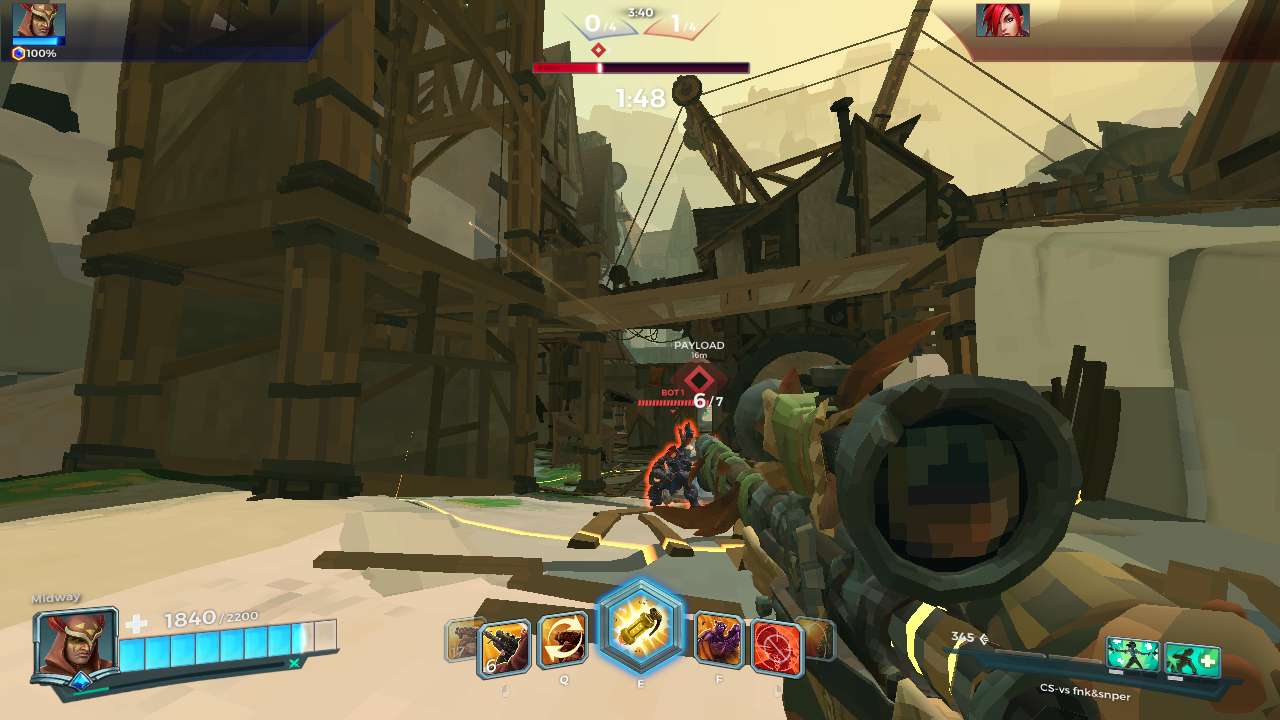model: (636, 412, 701, 513)
